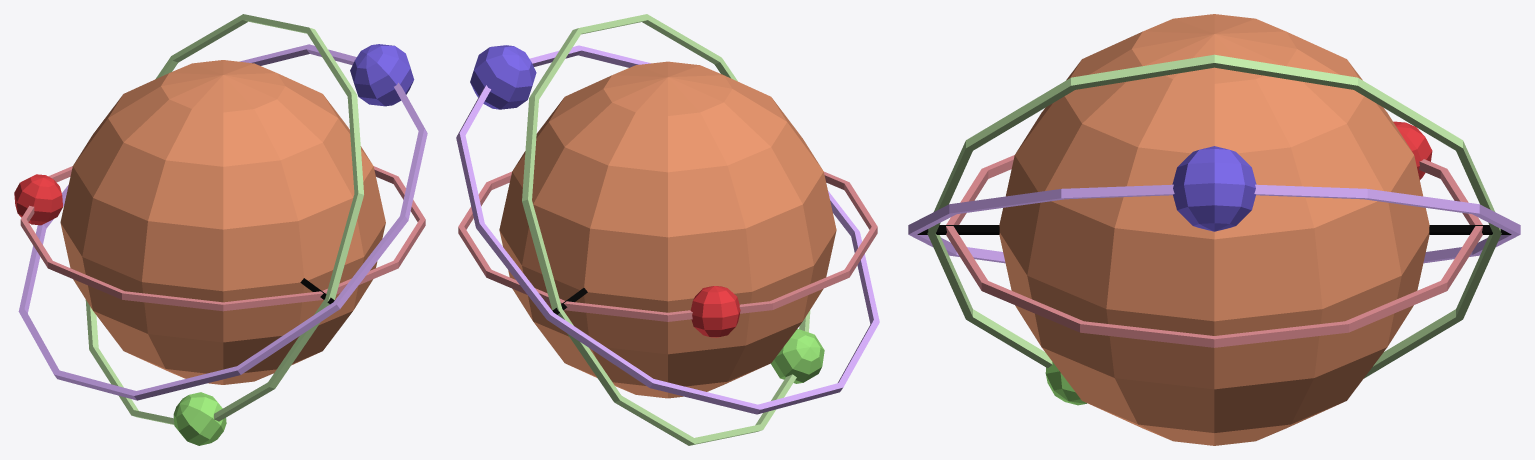
File: Planet2.fbx
The picture shows the model from 3 angles, left to right: view 1: azimuth 30°, elevation 25°; view 2: azimuth 150°, elevation 25°; view 3: azimuth 270°, elevation 25°; orthographic projection. The views are drawn at different scales.
Visible parts, largest first — view 1: Planet2; view 2: Planet2; view 3: Planet2.
Part boxes in pixels (box(x1,y1,x2,y2)): Planet2: box(14, 14, 427, 445); Planet2: box(456, 14, 879, 445); Planet2: box(908, 14, 1520, 445).
Bounding box in the file's own units: 257 × 236 × 283.
